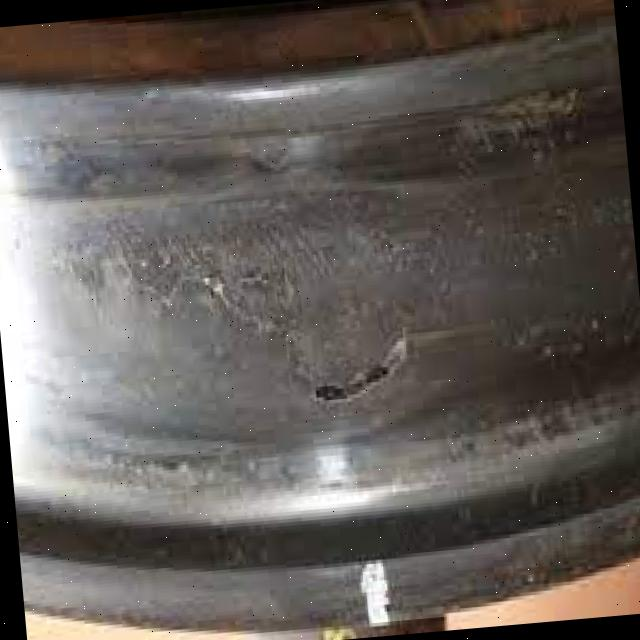Rollerpile: (439, 70, 588, 169)
